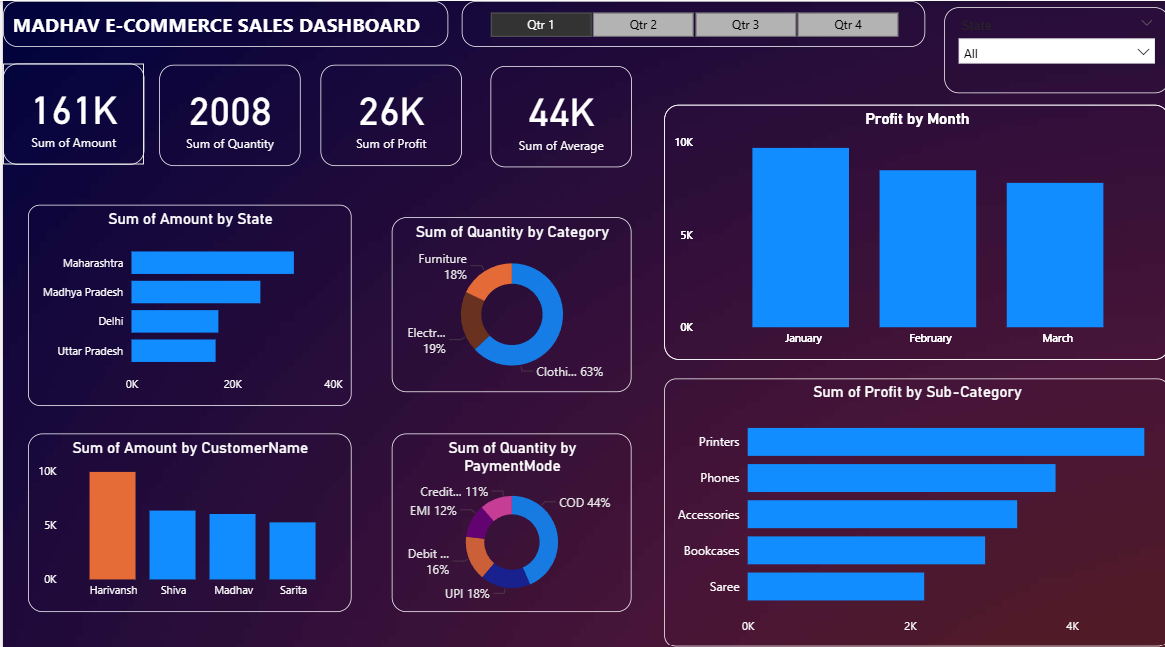

The dashboard page shown, as its layout file describes it:
{"tool":"powerbi","page":{"name":"Page 1","canvas":[1280,720],"ordinal":0},"visuals":[{"type":"columnChart","title":"Profit by Month","fields":{"Category":["Orders.Order Date.Variation.Date Hierarchy.Month"],"Y":["Sum(Details.Profit)"]},"box":[725.9,113.9,554.4,279.9],"z":1000},{"type":"columnChart","title":"Profit by Month","fields":{"Category":["Orders.Order Date.Variation.Date Hierarchy.Month"],"Y":["Sum(Details.Profit)"]},"box":[725.6,113.9,554.4,279.9],"z":2000},{"type":"barChart","fields":{"Category":["Details.Sub-Category"],"Y":["Sum(Details.Profit)"]},"box":[725.9,414.4,554.4,295],"z":3000},{"type":"donutChart","fields":{"Category":["Details.Category"],"Y":["Sum(Details.Quantity)"]},"box":[426.8,237.4,263.5,192.1],"z":4000},{"type":"donutChart","fields":{"Category":["Details.PaymentMode"],"Y":["Sum(Details.Quantity)"]},"box":[426.8,474.8,263.5,196.2],"z":5000},{"type":"card","fields":{"Values":["Sum(Details.Amount)"]},"box":[0,68.6,155.1,111.1],"z":6000},{"type":"card","fields":{"Values":["Sum(Details.Quantity)"]},"box":[171.5,70,155.1,111.1],"z":7000},{"type":"card","fields":{"Values":["Sum(Details.Profit)"]},"box":[348.5,70,155.1,111.1],"z":8000},{"type":"card","fields":{"Values":["Sum(Details.Average)"]},"box":[535.2,71.4,155.1,111.1],"z":9000},{"type":"barChart","fields":{"Category":["Orders.State"],"Y":["Sum(Details.Amount)"]},"box":[27.4,223.7,355.4,220.9],"z":10000},{"type":"columnChart","fields":{"Category":["Orders.CustomerName"],"Y":["Sum(Details.Amount)"]},"box":[27,475,355,196],"z":11000},{"type":"textbox","box":[0,0,488.5,50.8],"z":11001},{"type":"slicer","fields":{"Values":["Orders.Order Date.Variation.Date Hierarchy.Quarter"]},"box":[503.6,0,509.1,50.8],"z":11002},{"type":"slicer","fields":{"Values":["Orders.State"]},"box":[1033.3,6.9,247,94.7],"z":11003}]}

Visuals, with their boxes in screenshot pixels (x1, y1, x2, y2), scaled from the page's 1280x720 canvas onto the 1165x647 screenshot:
"Profit by Month" columnChart: BBox(661, 102, 1164, 354)
"Profit by Month" columnChart: BBox(660, 102, 1164, 354)
barChart - Details.Sub-Category x Sum(Details.Profit): BBox(661, 372, 1164, 637)
donutChart - Details.Category x Sum(Details.Quantity): BBox(388, 213, 628, 386)
donutChart - Details.PaymentMode x Sum(Details.Quantity): BBox(388, 427, 628, 603)
card - Sum(Details.Amount): BBox(0, 62, 141, 161)
card - Sum(Details.Quantity): BBox(156, 63, 297, 163)
card - Sum(Details.Profit): BBox(317, 63, 458, 163)
card - Sum(Details.Average): BBox(487, 64, 628, 164)
barChart - Orders.State x Sum(Details.Amount): BBox(25, 201, 348, 400)
columnChart - Orders.CustomerName x Sum(Details.Amount): BBox(25, 427, 348, 603)
textbox: BBox(0, 0, 445, 46)
slicer - Orders.Order Date.Variation.Date Hierarchy.Quarter: BBox(458, 0, 922, 46)
slicer - Orders.State: BBox(940, 6, 1164, 91)
